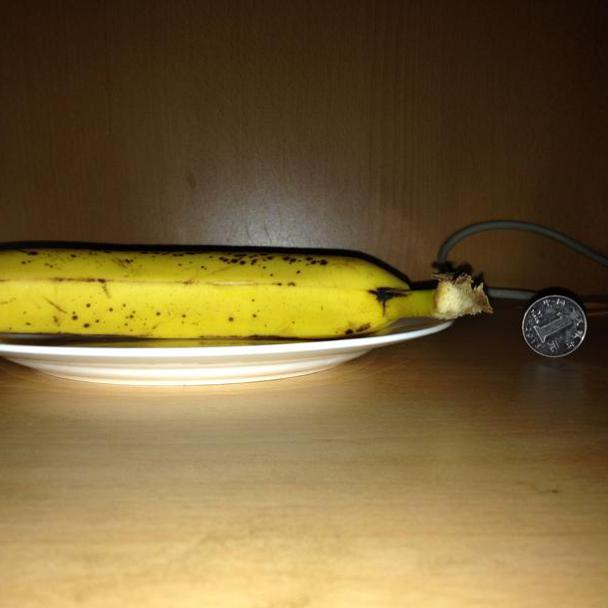banana: (2, 232, 486, 337)
